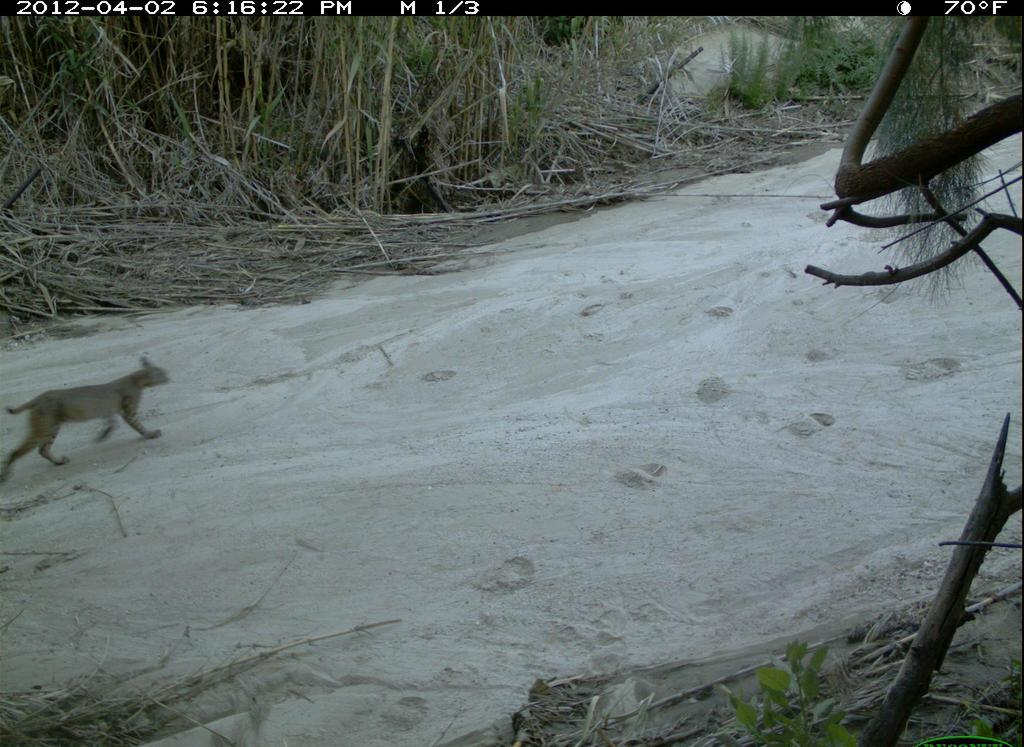bobcat: (1, 347, 181, 496)
